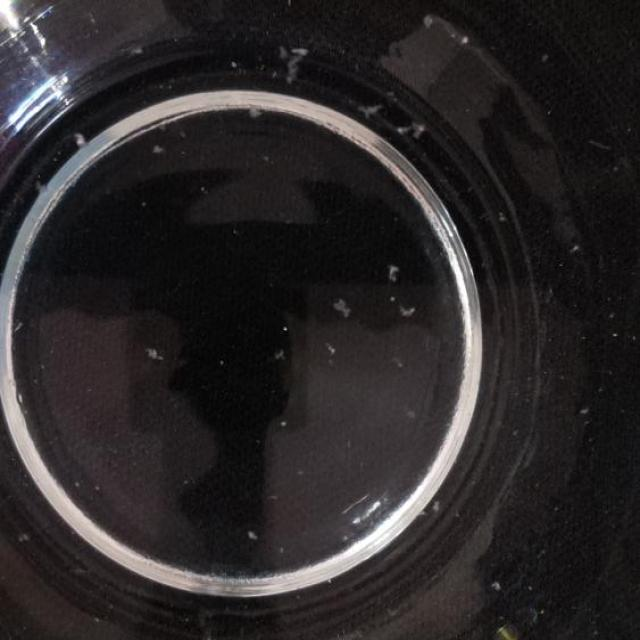fiber: (270, 48, 313, 84), (389, 111, 432, 147), (392, 293, 422, 321), (355, 98, 384, 120), (145, 342, 166, 364), (335, 296, 354, 320), (122, 41, 147, 59), (71, 129, 91, 149), (326, 341, 340, 363), (248, 100, 264, 118), (384, 261, 400, 277), (421, 11, 433, 32), (457, 33, 475, 45), (488, 579, 506, 590), (151, 145, 167, 156), (245, 526, 255, 542), (571, 240, 581, 252), (581, 401, 589, 415)
